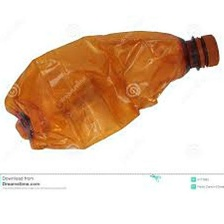bottle: (2, 28, 224, 155)
